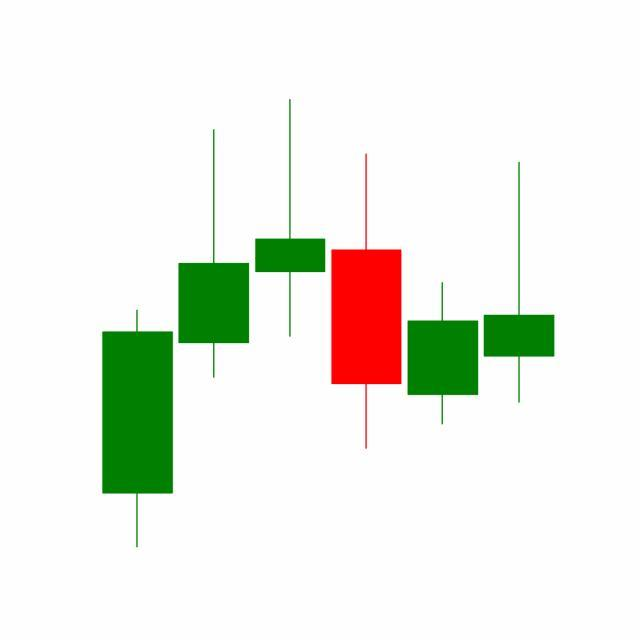Hikkake Pattern: (175, 99, 555, 454)
